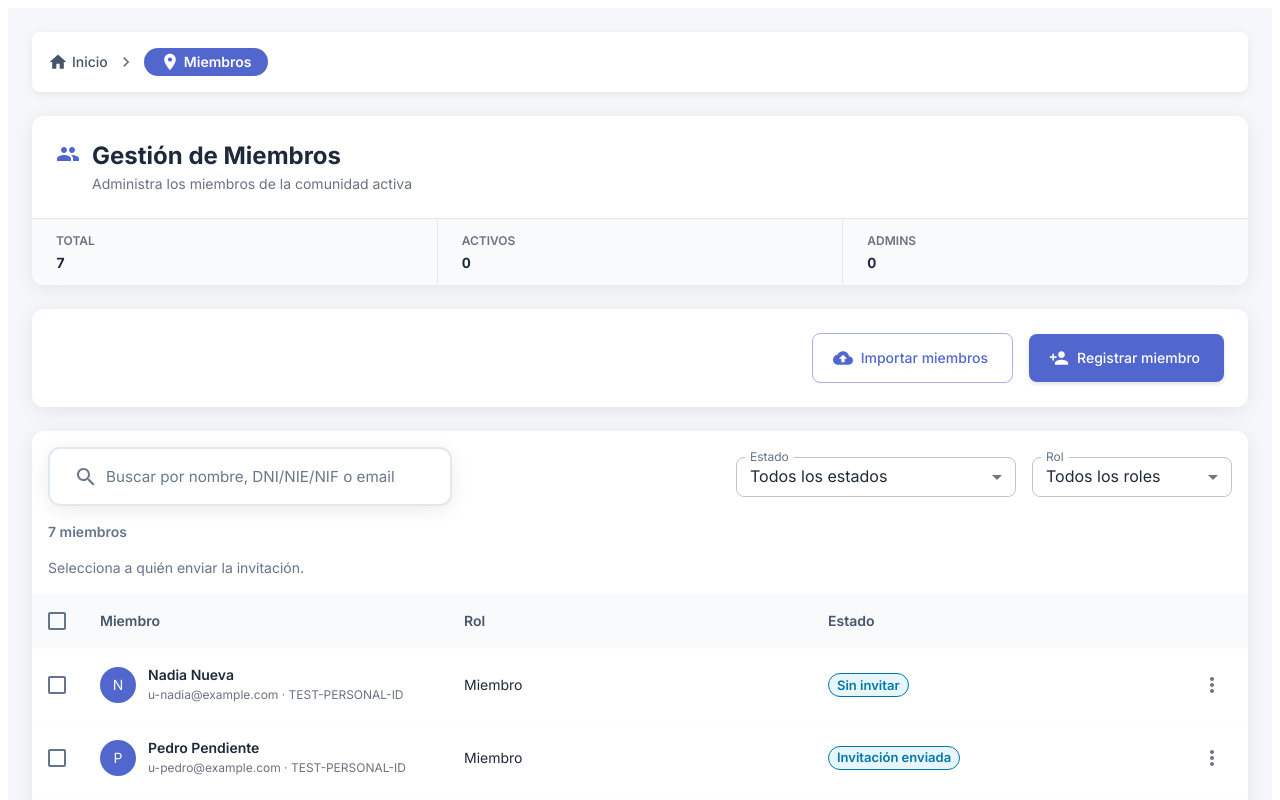
it: the result › UI-MBR-040 shows the counts and one line per refusal with its reason, refreshes the roster and clears the selection
The image size is (1280, 800).
expect the text "Nadia Nueva" is shown: met, box x1=148 y1=666 x2=234 y2=683
Click the checkbox named "Seleccionar todo" at (57, 621), box x1=45 y1=609 x2=69 y2=633
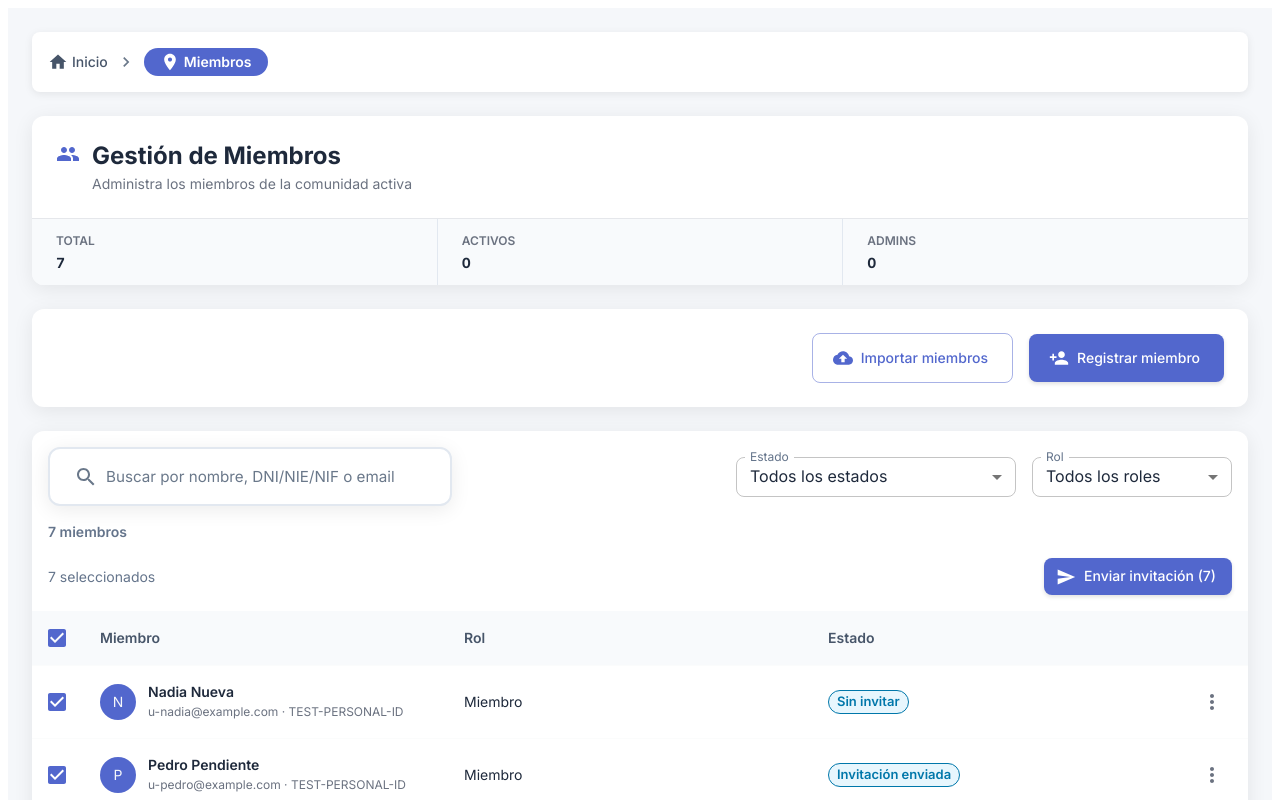
Click the button "Enviar invitación (7)" at (1138, 577), box x1=1044 y1=558 x2=1232 y2=595
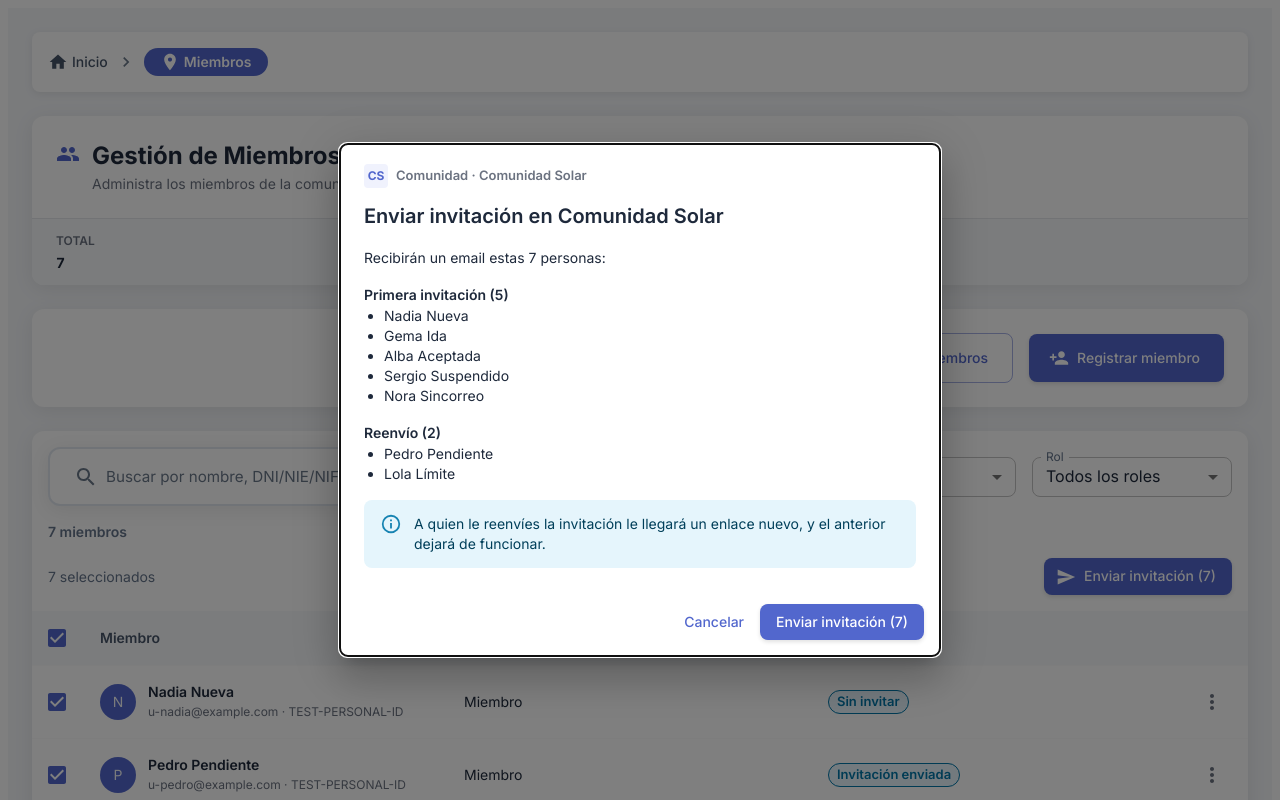
Click the button "Enviar invitación (7)" at (842, 622), box x1=760 y1=604 x2=924 y2=640
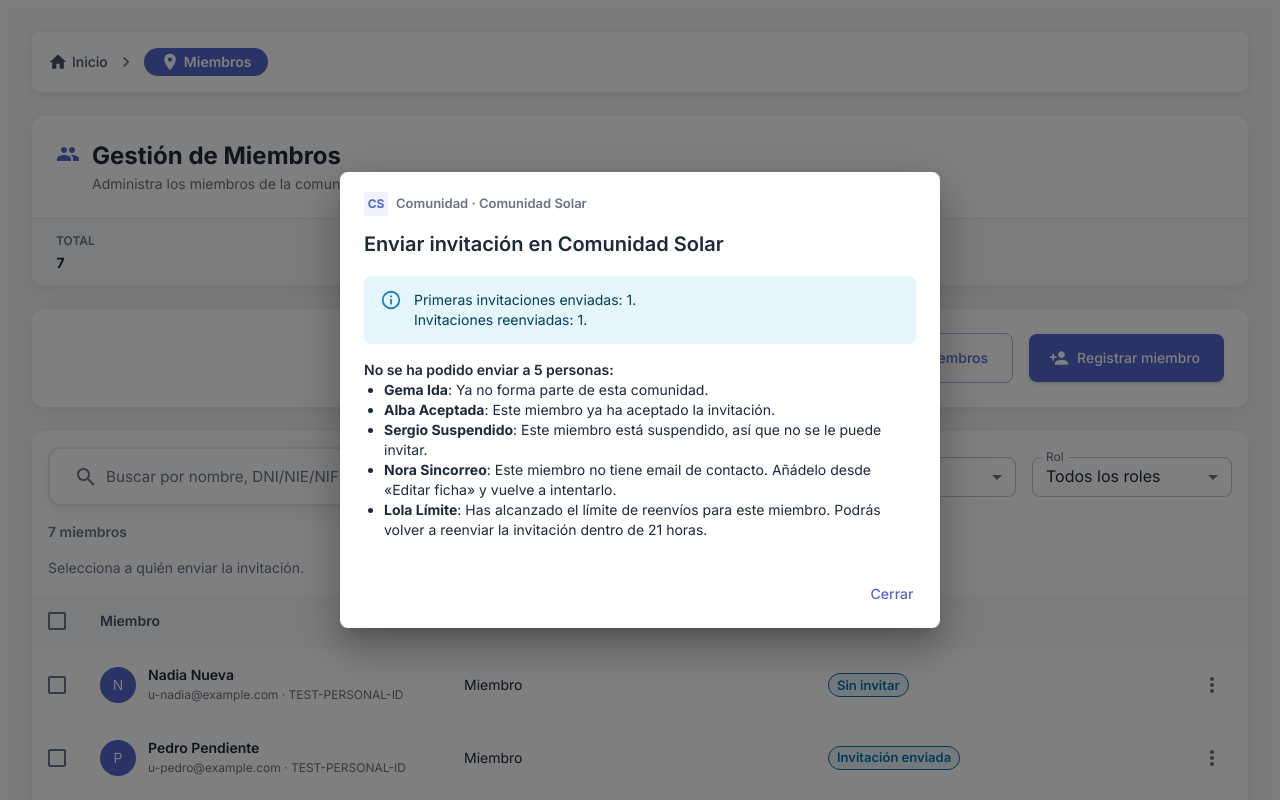
Click the button "Cerrar" at (892, 594), box x1=860 y1=576 x2=924 y2=612
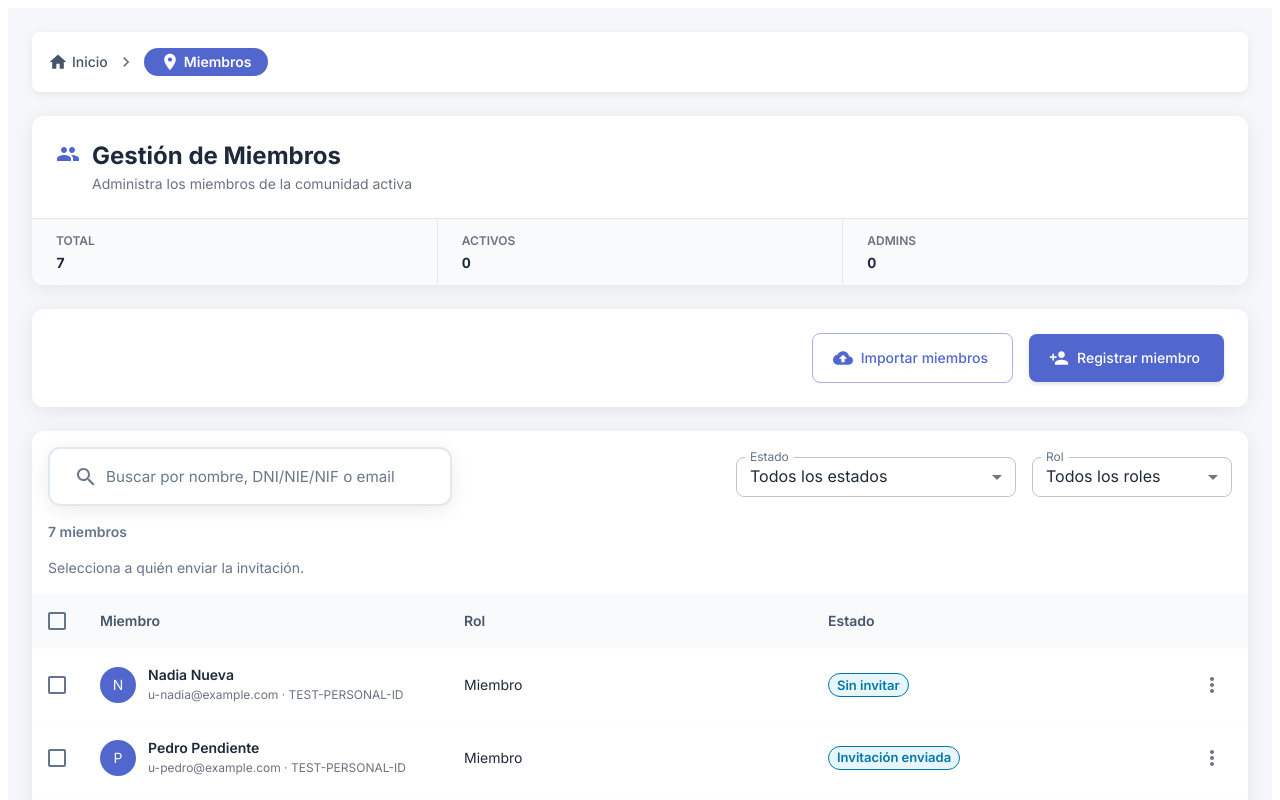
expect the dialog is gone: met
expect the heading "Enviar invitación" is gone: met
